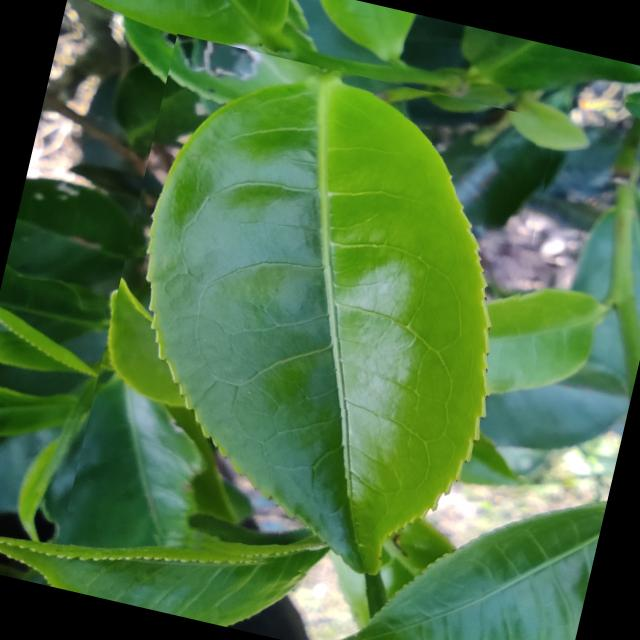Category B(2-4 days): (63, 33, 564, 612)
